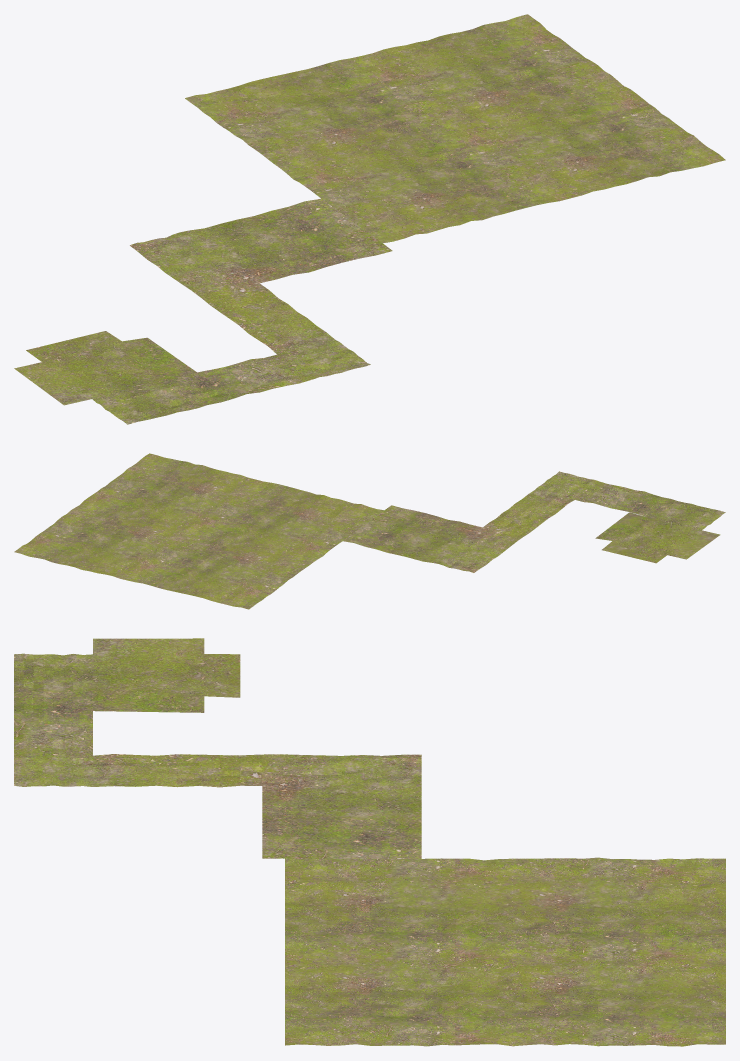
File: WorldFloor3.glb
3 renders of one model, top to bottom at view 1: azimuth 30°, elevation 25°; view 2: azimuth 150°, elevation 25°; view 3: azimuth 270°, elevation 25°, orthographic. The views are drawn at different scales.
Visible parts, largest first — view 1: Floor; view 2: Floor; view 3: Floor.
Boxes of the visible parts, <box> form: Floor: <box>14,14,725,424</box>; Floor: <box>14,453,725,609</box>; Floor: <box>14,638,725,1046</box>.
Bounding box in the file's own units: 109 × 0.562 × 80.75.
1 material, 1 textured.
